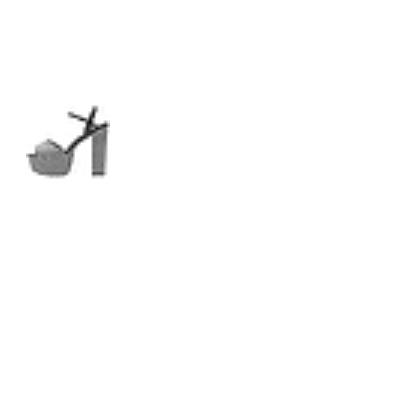Sandal: (26, 100, 110, 184)
